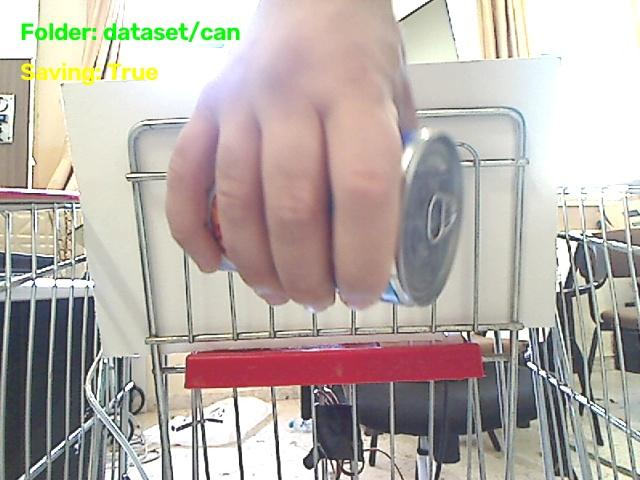can: (380, 129, 461, 305), (207, 188, 236, 270)
